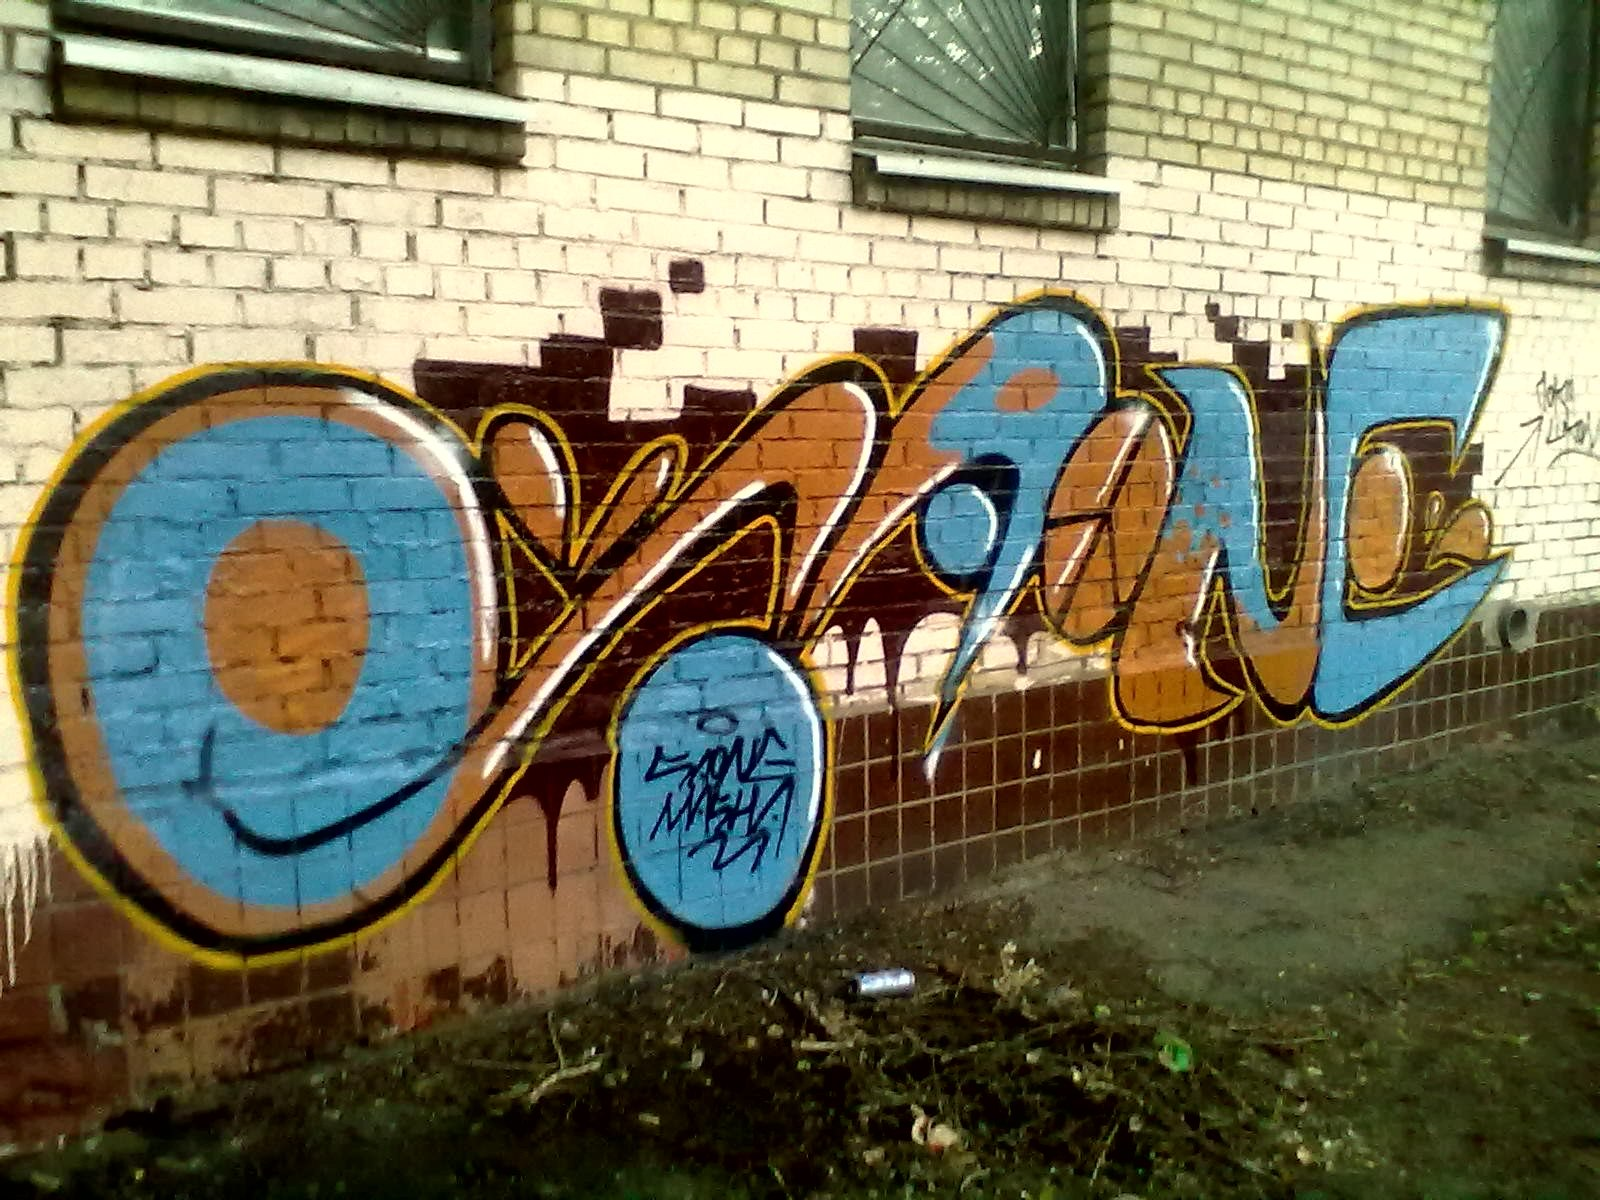graffity: (20, 241, 1524, 1044), (1497, 361, 1597, 509)
